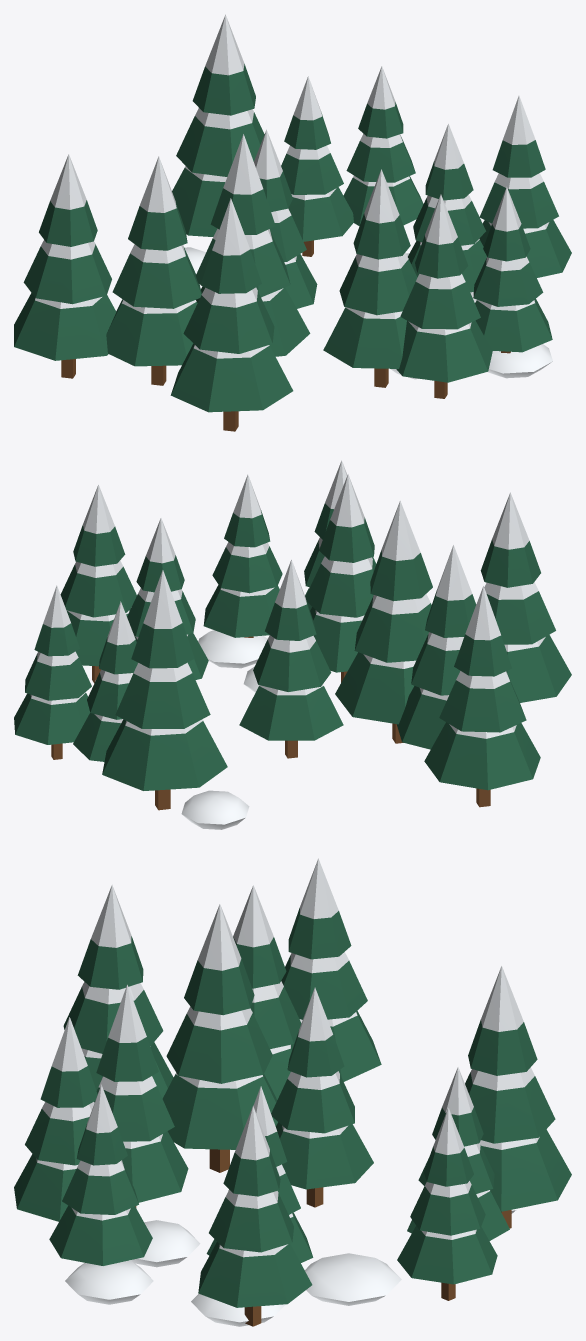
The model's file is PinarNieve.fbx.
The picture shows the model from 3 angles, top to bottom: view 1: azimuth 30°, elevation 25°; view 2: azimuth 150°, elevation 25°; view 3: azimuth 270°, elevation 25°; orthographic projection. The views are drawn at different scales.
Visible parts, largest first — view 1: PinarNieve; view 2: PinarNieve; view 3: PinarNieve.
Boxes of the visible parts, x1,y1,x2,y2 form: PinarNieve: [14, 14, 571, 431]; PinarNieve: [14, 460, 571, 829]; PinarNieve: [14, 858, 571, 1326].
Bounding box in the file's own units: 55.76 × 26.03 × 47.72.
1 material, 1 textured.
